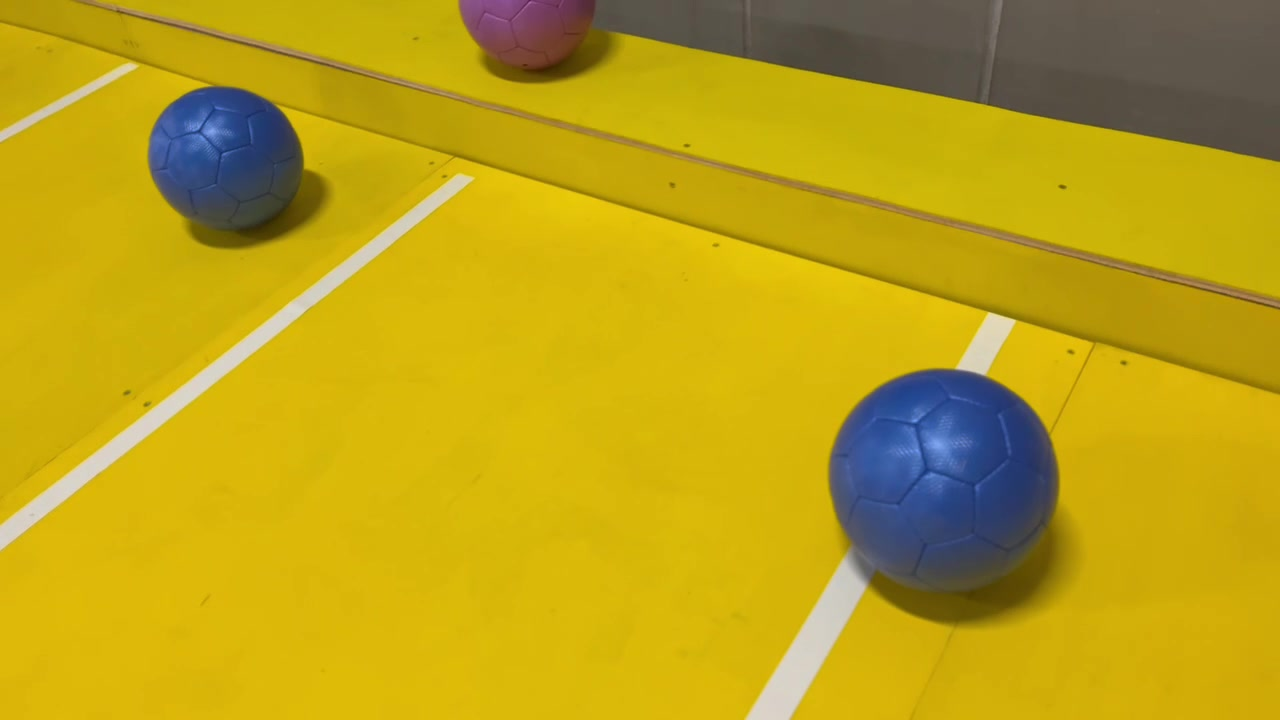blue: (813, 359, 1072, 599), (143, 73, 314, 246)
